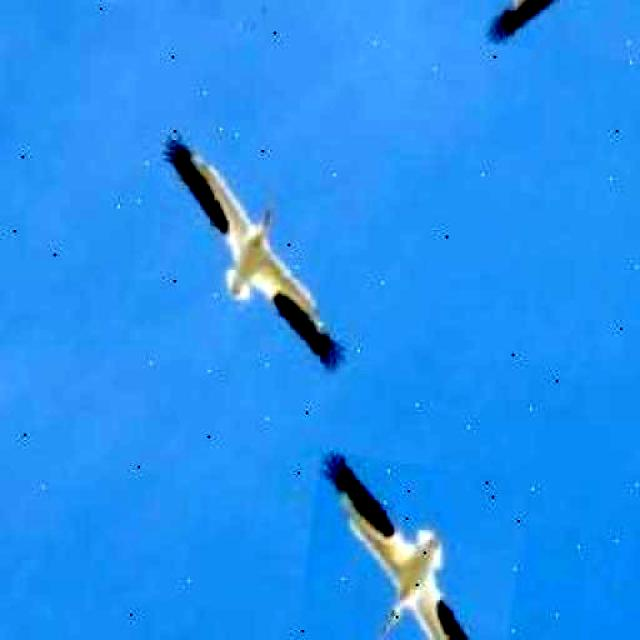airplane: (138, 135, 371, 378), (289, 451, 529, 640)
